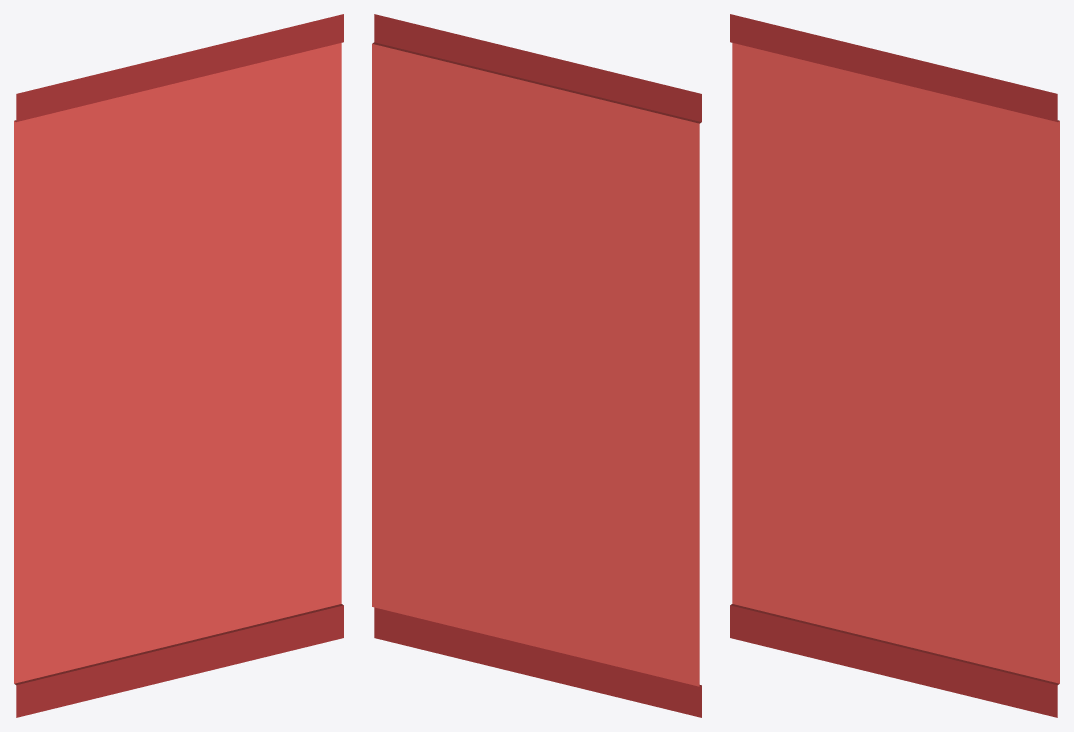
File: WallLarge2.glb
3 renders of one model, left to right at view 1: azimuth 30°, elevation 25°; view 2: azimuth 150°, elevation 25°; view 3: azimuth 330°, elevation 25°, orthographic.
Visible parts, largest first — view 1: SI_Env_Wall_Large_02; view 2: SI_Env_Wall_Large_02; view 3: SI_Env_Wall_Large_02.
Part boxes in pixels (x1,y1,x2,y2): SI_Env_Wall_Large_02: (14,14,343,717); SI_Env_Wall_Large_02: (372,14,701,717); SI_Env_Wall_Large_02: (730,14,1059,717).
Bounding box in the file's own units: 0.05 × 0.091 × 0.000549.
Materials: 1 (1 with a texture image).
